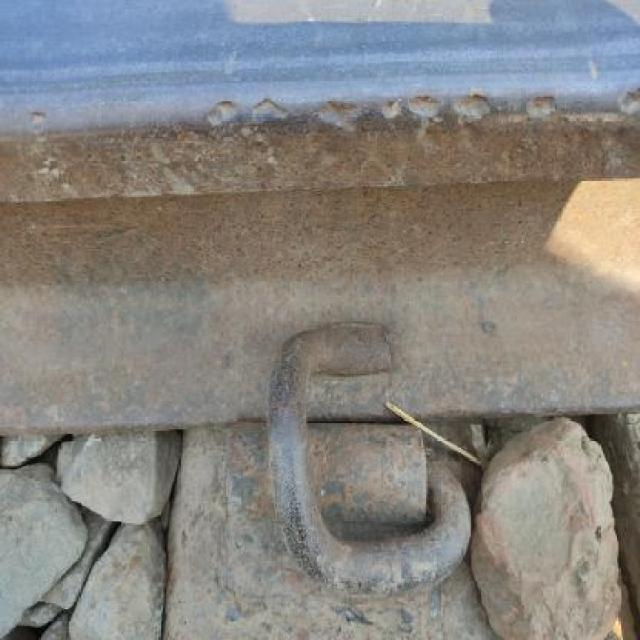non-defective: (1, 0, 640, 564)
